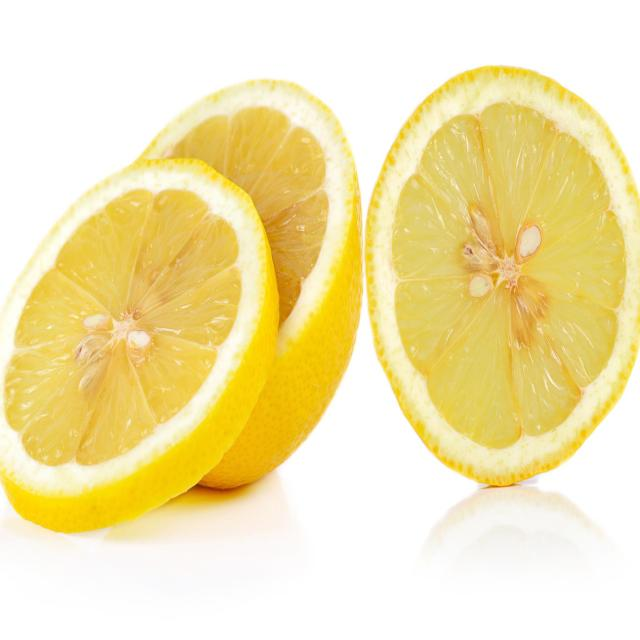lemon: (0, 59, 400, 546), (360, 49, 640, 504)
